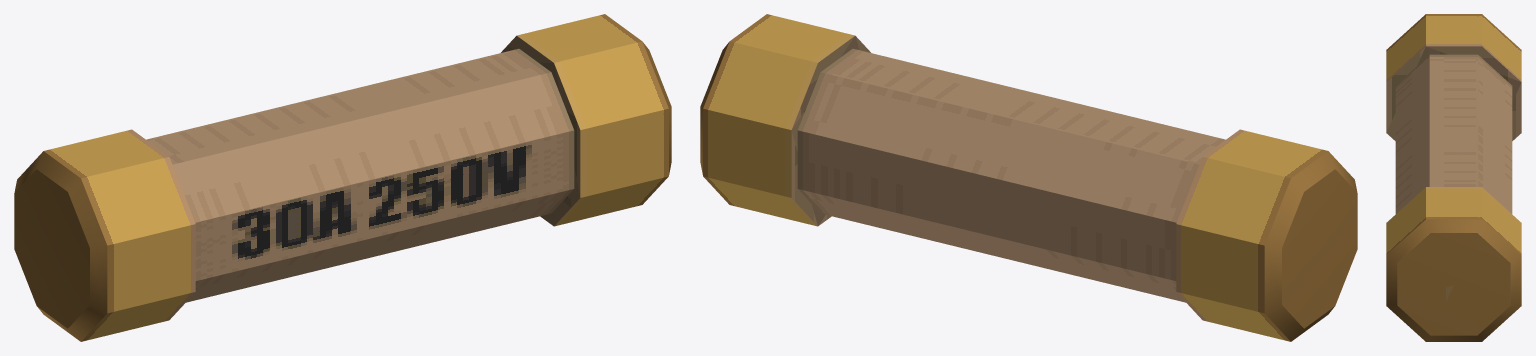
File: psx_fuse.obj
3 renders of one model, left to right at view 1: azimuth 30°, elevation 25°; view 2: azimuth 150°, elevation 25°; view 3: azimuth 270°, elevation 25°, orthographic. The views are drawn at different scales.
Parts seen in each view (by area): view 1: cartridge_fuse; view 2: cartridge_fuse; view 3: cartridge_fuse.
Part boxes in pixels (box(x1,y1,x2,y2)): cartridge_fuse: box(14, 14, 671, 341); cartridge_fuse: box(700, 14, 1357, 341); cartridge_fuse: box(1386, 14, 1521, 341).
Size of the model in its own units: 0.076 by 0.0203 by 0.0203.
Materials: 1 (1 with a texture image).
